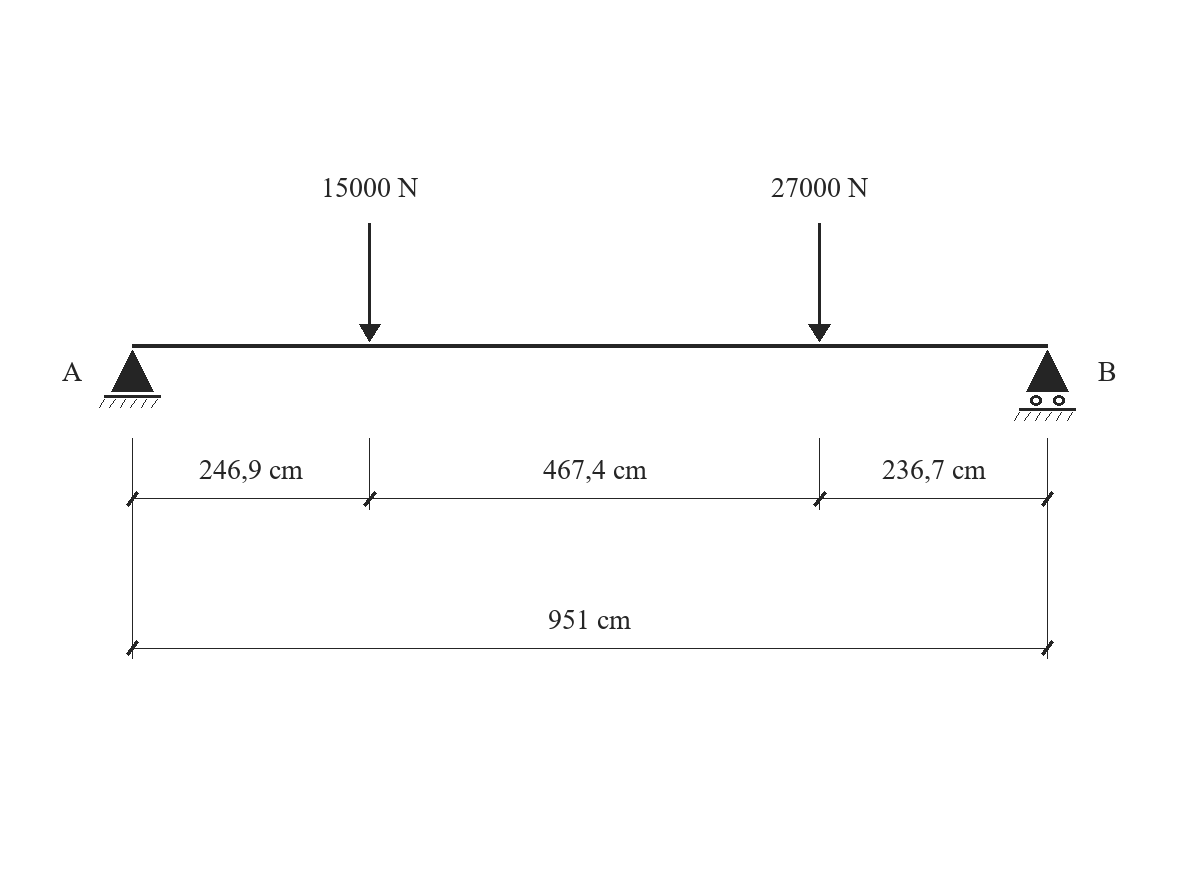pin_support: (99, 350, 161, 408)
point_load: (808, 223, 831, 342), (359, 223, 381, 342)
roller_support: (1014, 350, 1076, 421)
